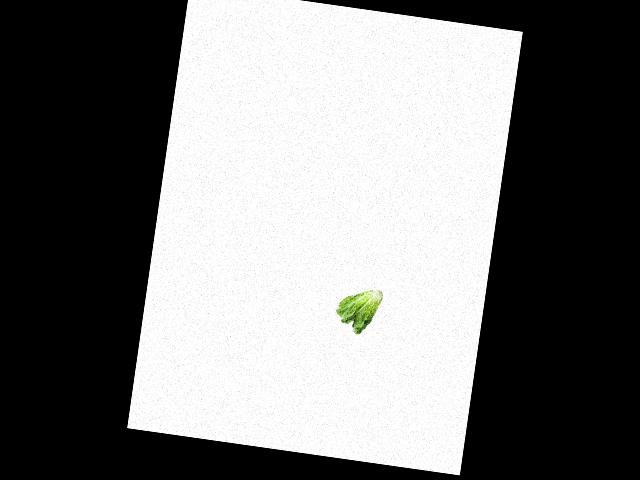lettuce: (327, 282, 384, 337)
